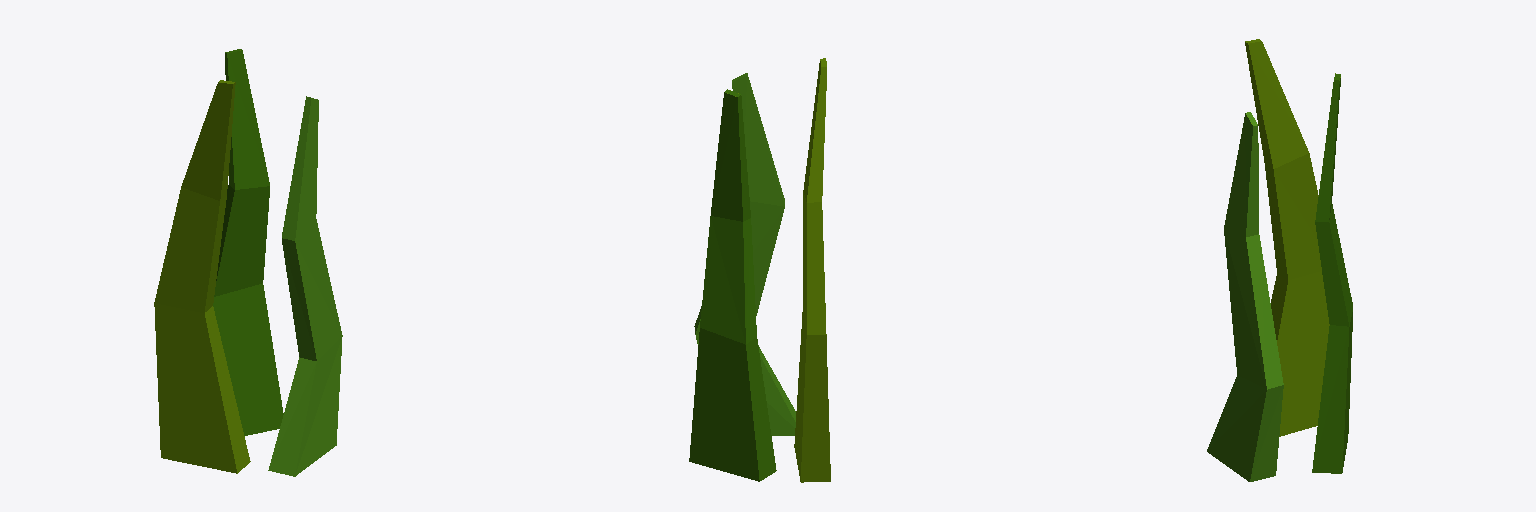
3 renders of one model, left to right at view 1: azimuth 30°, elevation 25°; view 2: azimuth 150°, elevation 25°; view 3: azimuth 270°, elevation 25°, orthographic.
Parts seen in each view (by area): view 1: Grass_small; view 2: Grass_small; view 3: Grass_small.
Boxes of the visible parts, x1=… form: Grass_small: x1=154, y1=49, x2=342, y2=476; Grass_small: x1=689, y1=58, x2=830, y2=482; Grass_small: x1=1207, y1=39, x2=1352, y2=481.
Size of the model in its own units: 0.1566 by 0.3635 by 0.1244.
1 materials, 1 textured.